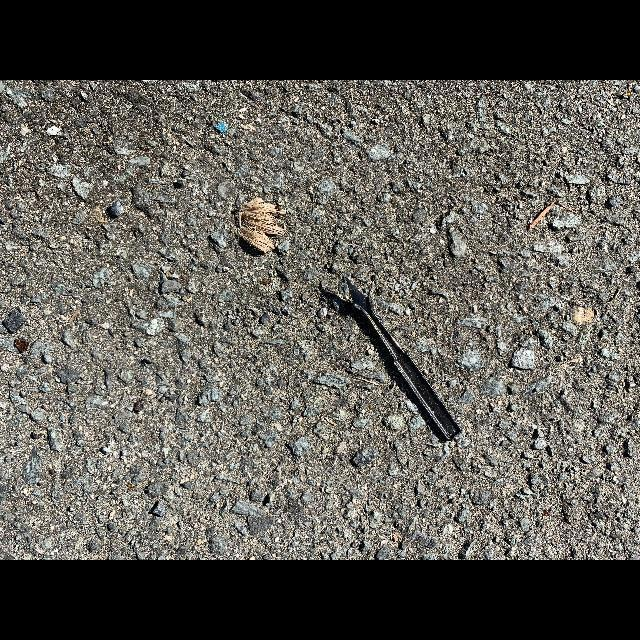Plastic: (346, 277, 462, 441)
